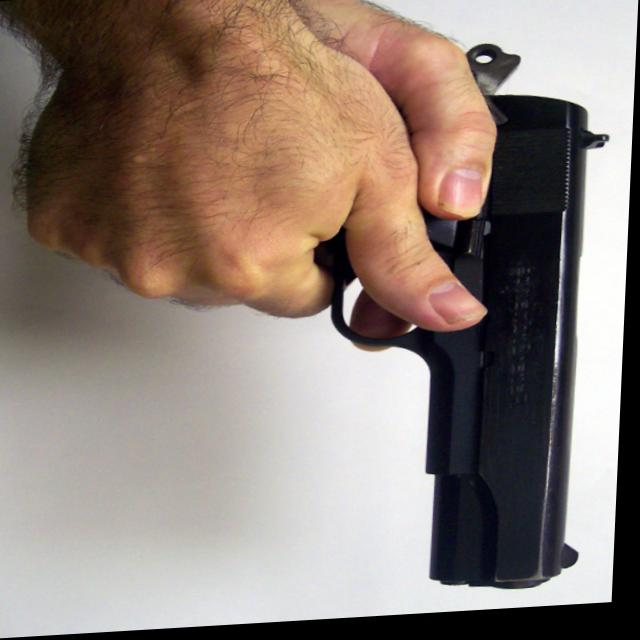handgun: (296, 18, 618, 607)
